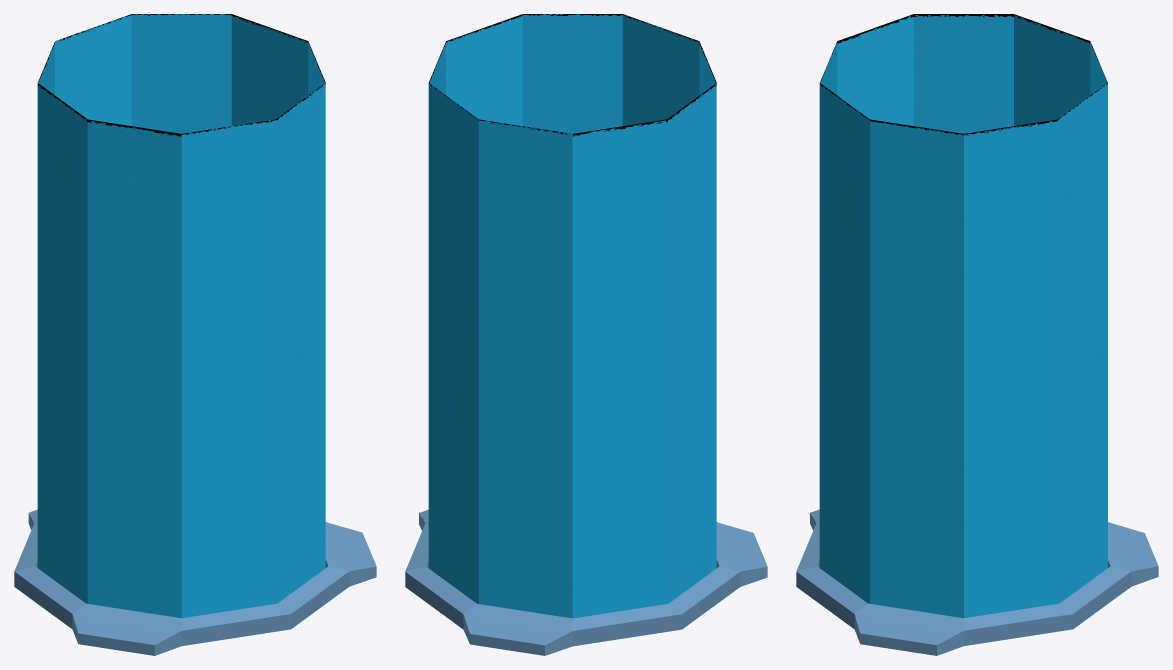
File: Teleporter.obj
3 renders of one model, left to right at view 1: azimuth 30°, elevation 25°; view 2: azimuth 150°, elevation 25°; view 3: azimuth 270°, elevation 25°, orthographic.
Visible parts, largest first — view 1: Cylinder Null, Null Oil_Tank; view 2: Cylinder Null, Null Oil_Tank; view 3: Cylinder Null, Null Oil_Tank.
Part boxes in pixels (x1,y1,x2,y2): Cylinder Null: [37, 14, 325, 618]; Null Oil_Tank: [14, 509, 376, 655]; Cylinder Null: [428, 14, 716, 618]; Null Oil_Tank: [405, 509, 767, 655]; Cylinder Null: [819, 14, 1107, 618]; Null Oil_Tank: [796, 509, 1158, 655].
Size of the model in its own units: 4.05 by 6.13 by 4.01.
3 materials, 1 textured.
